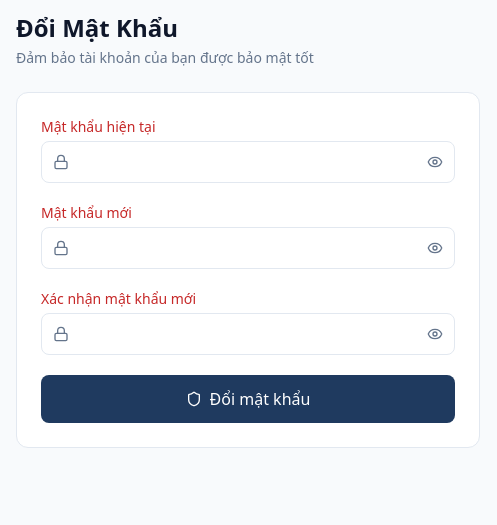
SettingsPasswordPage › shows validation error when submitting empty form
The width and height of the screenshot is (497, 525).
What coordinates should you click on to do the following:
click the button with test id "change-password-btn"
I would click on:
 (248, 399)
Its box is x1=41 y1=375 x2=455 y2=423.
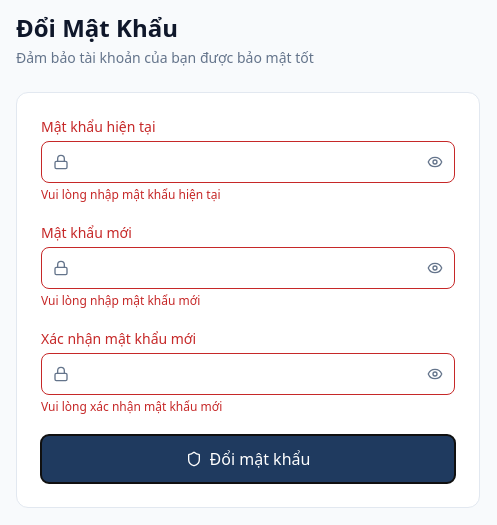
Check: the text "Vui lòng nhập mật khẩu hiện tại" is shown, box x1=41 y1=186 x2=220 y2=203
